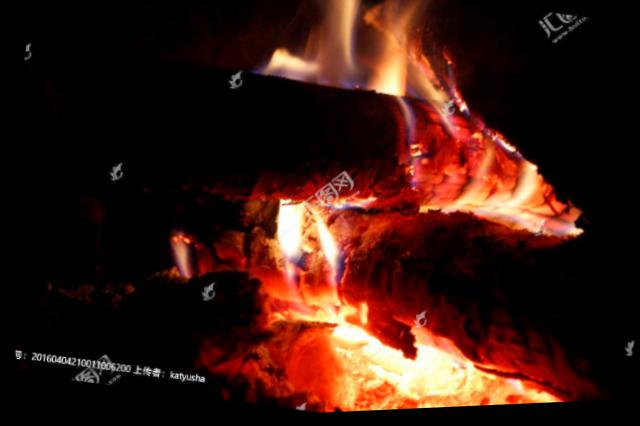fire: (321, 324, 475, 412), (302, 0, 368, 90), (363, 5, 420, 99), (265, 196, 312, 271), (464, 371, 556, 407), (444, 188, 526, 222), (290, 283, 349, 330), (261, 48, 328, 87), (513, 213, 577, 246), (308, 222, 346, 271), (405, 71, 446, 104), (512, 161, 537, 207)
